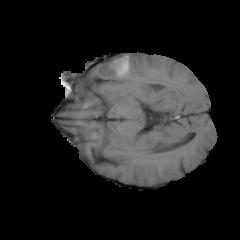glioma: (90, 53, 137, 86)
